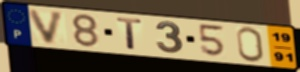0: (235, 26, 266, 64)
3: (154, 20, 185, 55)
5: (197, 23, 229, 60)
8: (69, 12, 101, 49)
T: (115, 16, 145, 52)
V: (26, 8, 67, 46)
